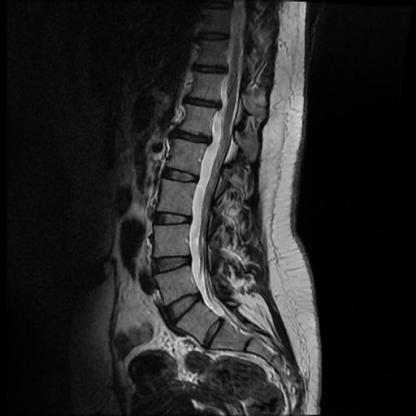Annular Disc Relaxationrotation: (161, 294, 201, 320), (199, 322, 231, 343)
Degenerative Disc Diseaserotation: (160, 295, 202, 320), (161, 167, 201, 187), (198, 323, 231, 343)
Disc Bulgerotation: (161, 168, 199, 187)
